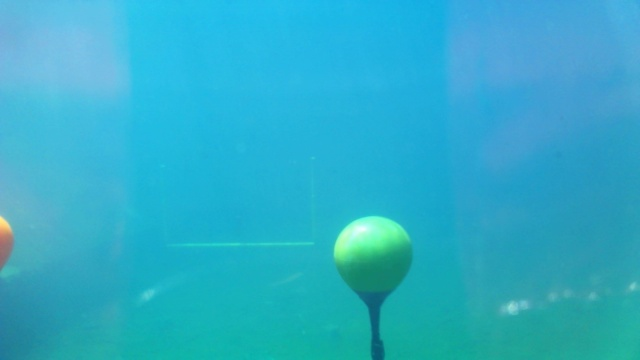buoy_green: (332, 213, 414, 319)
channel: (157, 153, 314, 247)
